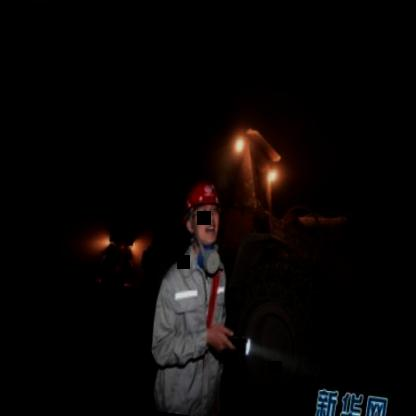helmet: (177, 174, 228, 252)
